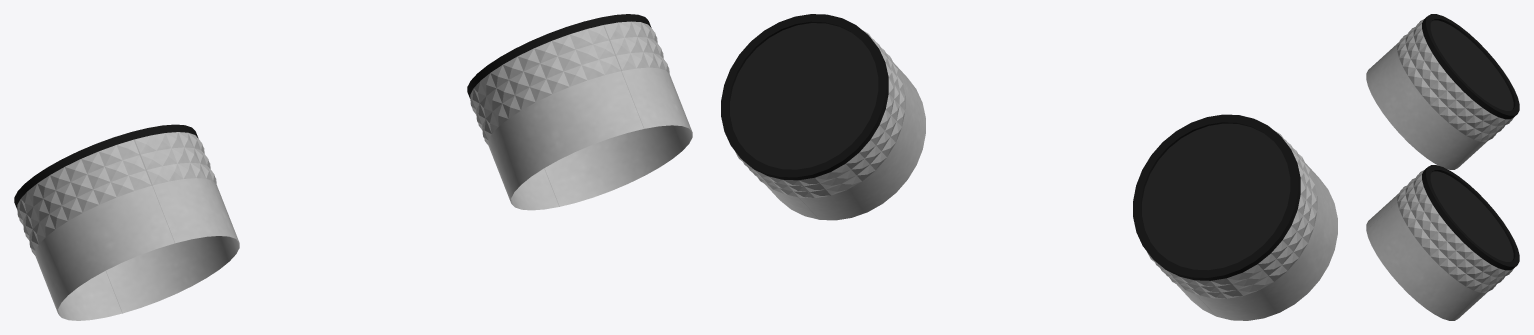
Rendered from SUV_Knobs.gltf.
3 views of the same model, side by side, from view 1: azimuth 30°, elevation 25°; view 2: azimuth 150°, elevation 25°; view 3: azimuth 270°, elevation 25° (orthographic). The views are drawn at different scales.
Visible parts, largest first — view 1: SUV_Dashboard_low.002; view 2: SUV_Dashboard_low.002; view 3: SUV_Dashboard_low.002.
Boxes of the visible parts, left/top/right/bottom form: SUV_Dashboard_low.002: left=14, top=14, right=692, bottom=320; SUV_Dashboard_low.002: left=721, top=14, right=1337, bottom=320; SUV_Dashboard_low.002: left=1366, top=14, right=1519, bottom=320.
Size of the model in its own units: 0.1505 by 0.0468 by 0.0468.
Materials: 2 (1 with a texture image).
